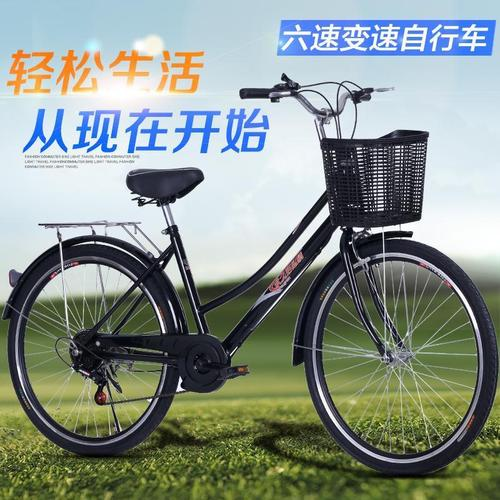单车: (8, 77, 500, 477)
